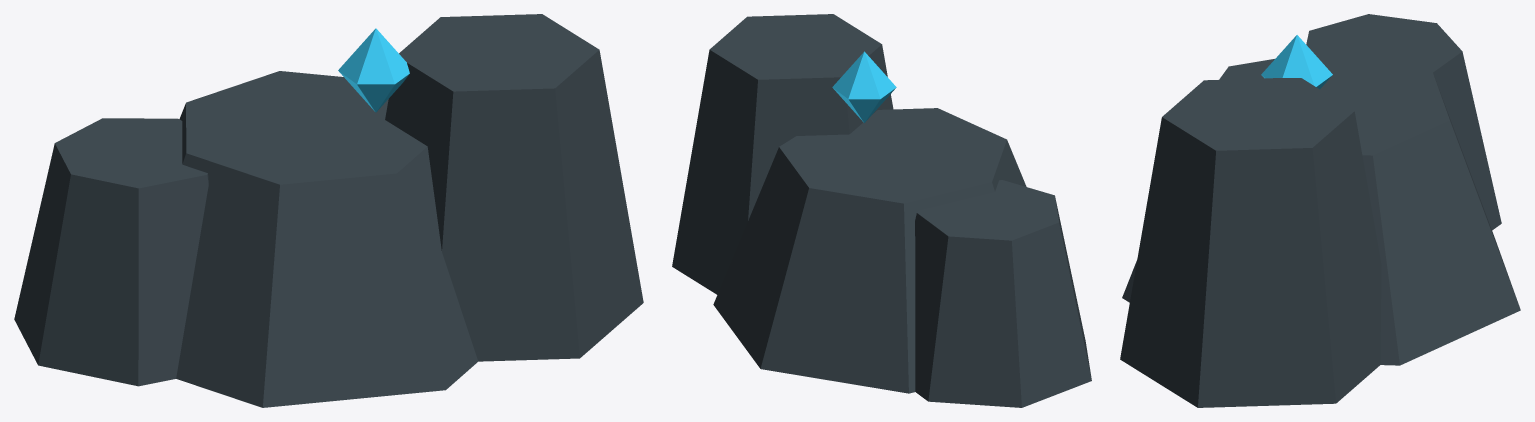
Rendered from rock_cover.obj.
3 renders of one model, left to right at view 1: azimuth 30°, elevation 25°; view 2: azimuth 150°, elevation 25°; view 3: azimuth 270°, elevation 25°, orthographic. The views are drawn at different scales.
Parts seen in each view (by area): view 1: rock_cover; view 2: rock_cover; view 3: rock_cover.
Part boxes in pixels (x1=…): rock_cover: x1=14, y1=14, x2=643, y2=407; rock_cover: x1=672, y1=14, x2=1091, y2=407; rock_cover: x1=1120, y1=14, x2=1520, y2=407.
Size of the model in its own units: 10.23 by 5.45 by 7.23.
